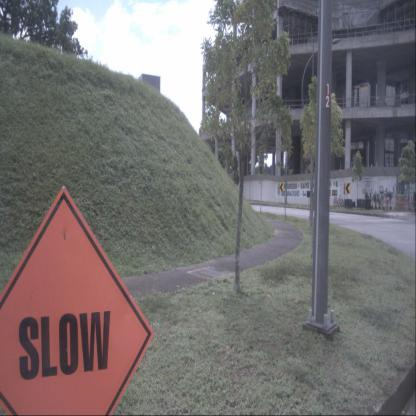vehicle-bicycle: (333, 194, 344, 206)
